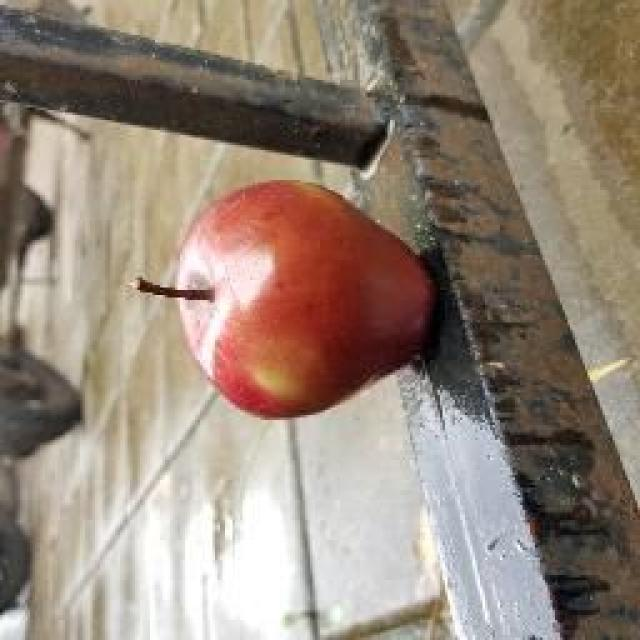Good_Apple: (135, 180, 440, 425)
